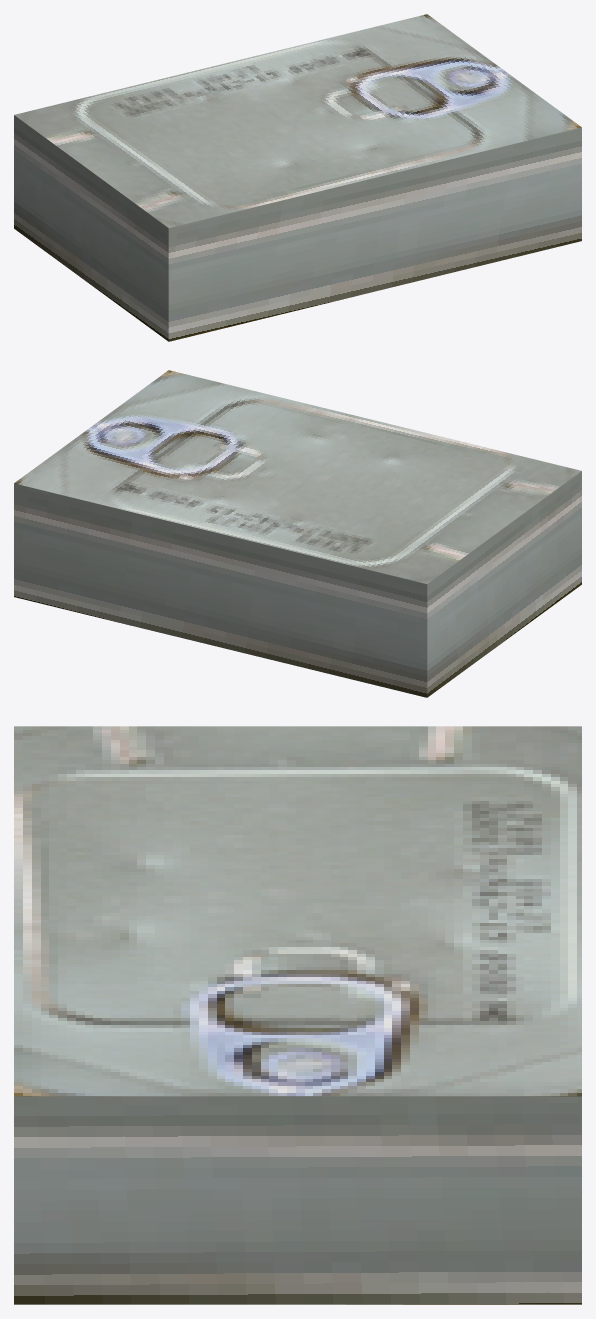
Rendered from tin_3.glb.
3 renders of one model, top to bottom at view 1: azimuth 30°, elevation 25°; view 2: azimuth 150°, elevation 25°; view 3: azimuth 270°, elevation 25°, orthographic. The views are drawn at different scales.
Parts seen in each view (by area): view 1: Tin_3; view 2: Tin_3; view 3: Tin_3.
Boxes of the visible parts, left/top/right/bottom form: Tin_3: left=14, top=14, right=581, bottom=341; Tin_3: left=14, top=370, right=581, bottom=697; Tin_3: left=14, top=726, right=581, bottom=1304.
Bounding box in the file's own units: 0.3571 × 0.0939 × 0.2317.
1 material, 1 textured.
